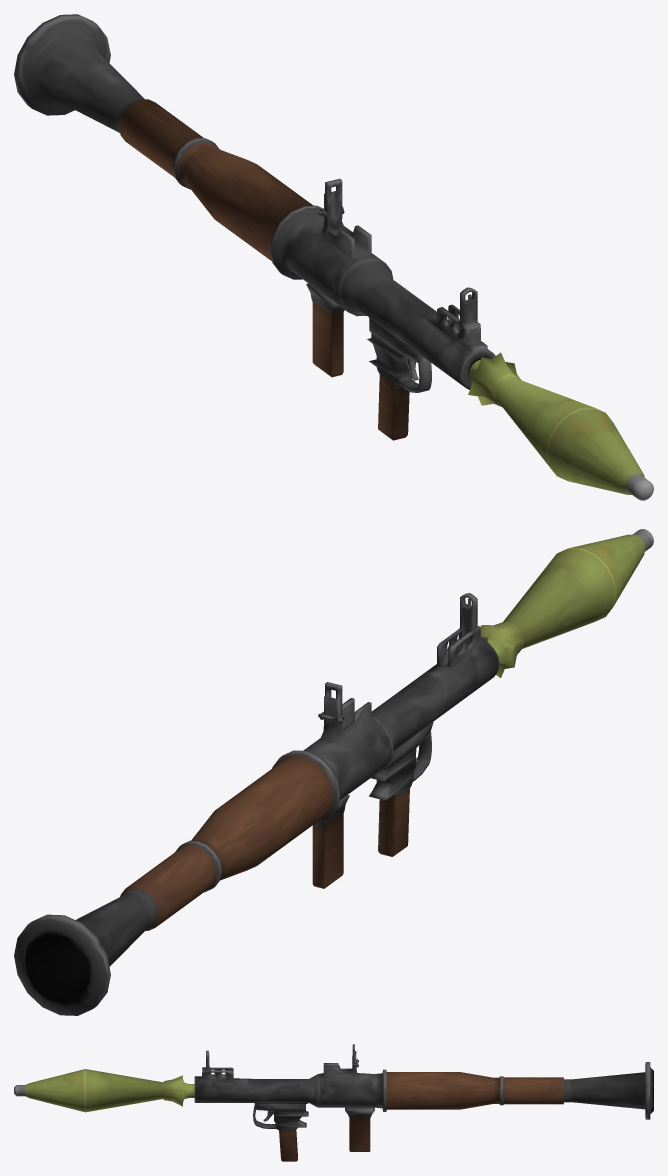
The model's file is RPG-7.fbx.
3 renders of one model, top to bottom at view 1: azimuth 30°, elevation 25°; view 2: azimuth 150°, elevation 25°; view 3: azimuth 270°, elevation 25°, orthographic. The views are drawn at different scales.
Parts seen in each view (by area): view 1: RPG-7, RpgRocket; view 2: RPG-7, RpgRocket; view 3: RPG-7, RpgRocket.
Part boxes in pixels (x1=…): RPG-7: x1=14, y1=14, x2=495, y2=440; RpgRocket: x1=468, y1=352, x2=653, y2=500; RPG-7: x1=14, y1=593, x2=499, y2=1015; RpgRocket: x1=480, y1=529, x2=653, y2=677; RPG-7: x1=194, y1=1044, x2=653, y2=1161; RpgRocket: x1=14, y1=1069, x2=194, y2=1112.
Size of the model in its own units: 11.98 by 25.96 by 132.
